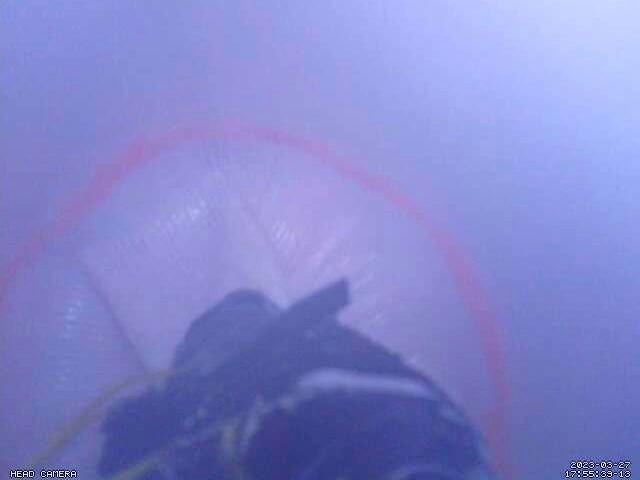head: (0, 120, 513, 480)
